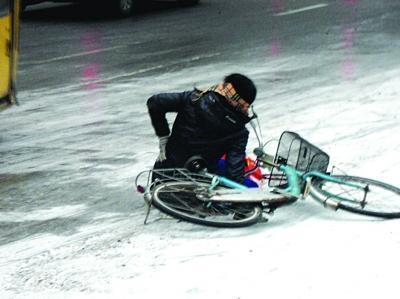Fall-Detected: (135, 61, 270, 195)
